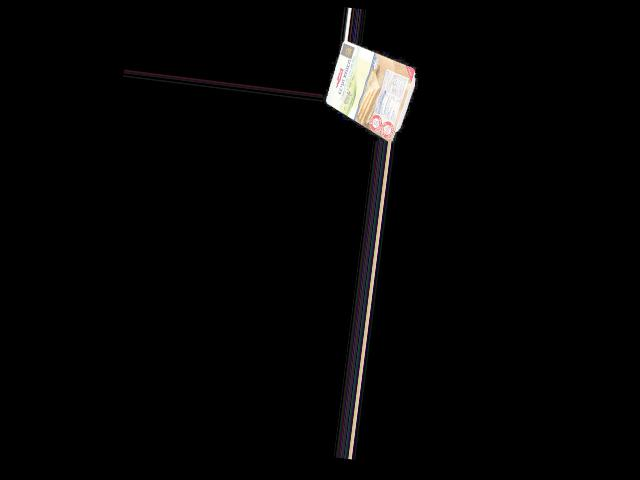cheese: (324, 47, 416, 129)
